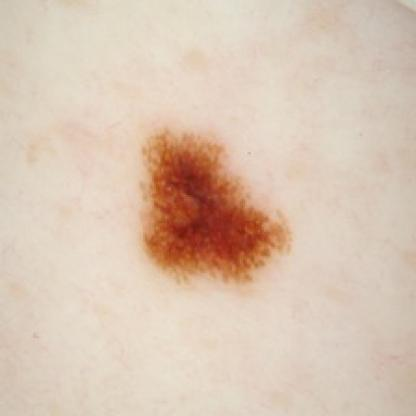malignant: (140, 115, 308, 297)
